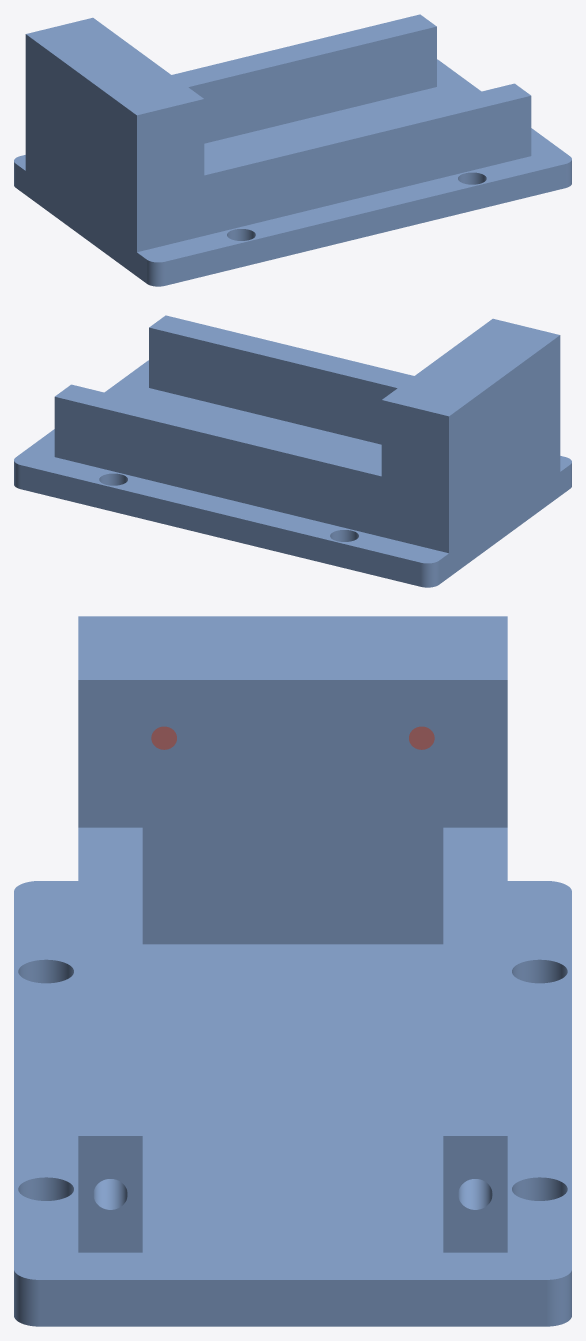
The model's file is step_07.glb.
3 renders of one model, top to bottom at view 1: azimuth 30°, elevation 25°; view 2: azimuth 150°, elevation 25°; view 3: azimuth 270°, elevation 25°, orthographic. The views are drawn at different scales.
Parts seen in each view (by area): view 1: part__body; view 2: part__body; view 3: part__body, removed__body.
Part boxes in pixels (x1,y1,x2,y2): part__body: (14, 14, 571, 286); part__body: (14, 315, 571, 587); part__body: (14, 616, 571, 1326); removed__body: (151, 726, 434, 749).
Bounding box in the file's own units: 220 × 80 × 130.
